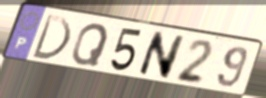2: (175, 38, 215, 86)
5: (109, 27, 144, 73)
9: (214, 45, 249, 90)
D: (29, 13, 72, 62)
N: (135, 29, 188, 81)
Q: (70, 22, 111, 68)
